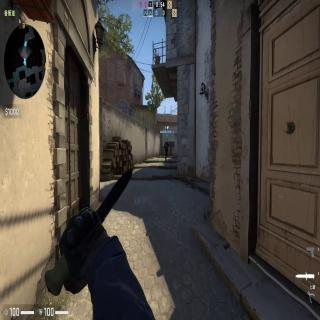CT-Body: (164, 137, 169, 162)
